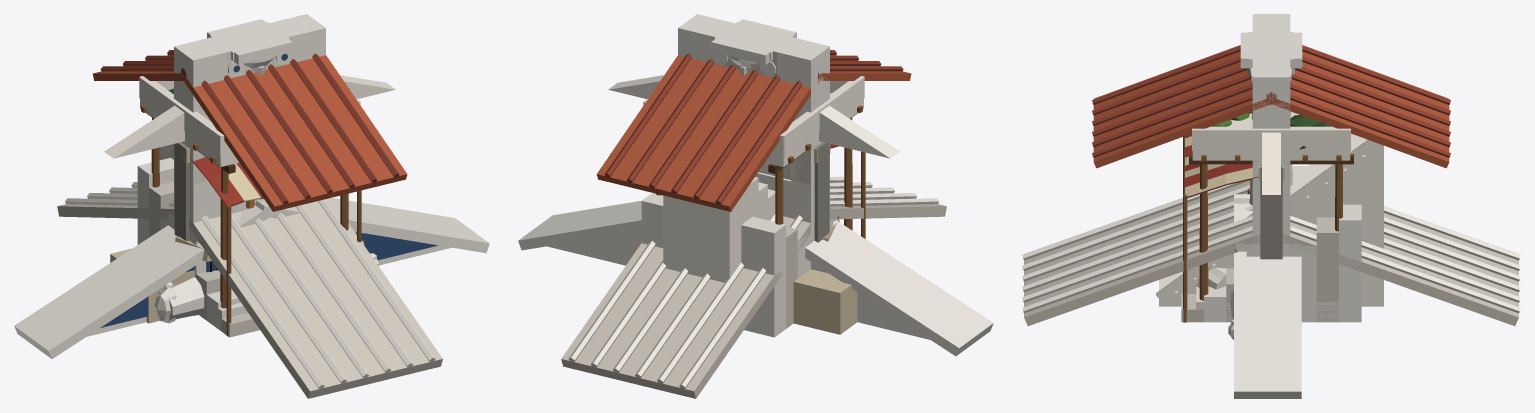
Rendered from Buildings_Kit.glb.
3 renders of one model, left to right at view 1: azimuth 30°, elevation 25°; view 2: azimuth 150°, elevation 25°; view 3: azimuth 270°, elevation 25°, orthographic. The views are drawn at different scales.
Parts seen in each view (by area): view 1: Temple_Roof, Roof_Gable, Pediment, Temple_Door, Roman_Stairs, Roof_Flat, Roof_GableEnd, Awning, Statue_Fallen, Column_Corinthian, Pergola, Gate_Wood (+5 smaller); view 2: Temple_Roof, Roof_Gable, Pediment, Stairs_Outside, Roman_Stairs, Temple_Door, Temple_Wall, Statue_Fallen, Roof_Flat, Roof_GableEnd, Column_Corinthian, Gate_Wood (+4 smaller); view 3: Temple_Roof, Roof_Gable, Pediment, Stairs_Outside, Roman_Stairs, Temple_Door, Roof_Flat, Pergola, Awning, Gate_Wood, Column_Doric, Roof_GableEnd (+4 smaller).
Boxes of the visible parts, box(x1,y1,x2,y2) form: Temple_Roof: box(57, 182, 442, 398); Roof_Gable: box(92, 50, 407, 211); Pediment: box(14, 197, 489, 358); Temple_Door: box(174, 14, 325, 222); Roman_Stairs: box(137, 157, 259, 337); Roof_Flat: box(139, 76, 360, 167); Roof_GableEnd: box(104, 75, 395, 158); Awning: box(190, 157, 361, 336); Statue_Fallen: box(110, 236, 378, 323); Column_Corinthian: box(207, 19, 292, 75); Pergola: box(141, 88, 348, 308); Gate_Wood: box(173, 142, 189, 240); Temple_Roof: box(561, 176, 946, 398); Roof_Gable: box(596, 50, 911, 211); Pediment: box(518, 200, 993, 356); Stairs_Outside: box(663, 177, 775, 282); Roman_Stairs: box(641, 193, 808, 337); Temple_Door: box(678, 14, 829, 236); Temple_Wall: box(678, 29, 810, 222); Statue_Fallen: box(793, 219, 857, 334); Roof_Flat: box(643, 76, 864, 166); Roof_GableEnd: box(608, 75, 899, 158); Column_Corinthian: box(711, 19, 796, 74); Gate_Wood: box(814, 142, 830, 242); Temple_Roof: box(1022, 180, 1520, 326); Roof_Gable: box(1092, 45, 1450, 168); Pediment: box(1234, 194, 1301, 398); Stairs_Outside: box(1156, 133, 1383, 306); Roman_Stairs: box(1181, 204, 1361, 322); Temple_Door: box(1248, 14, 1290, 243); Roof_Flat: box(1192, 111, 1350, 160); Pergola: box(1189, 113, 1353, 300); Awning: box(1183, 133, 1258, 322); Gate_Wood: box(1258, 166, 1284, 259); Column_Doric: box(1241, 33, 1301, 188); Roof_GableEnd: box(1262, 132, 1280, 194).
Bounding box in the file's own units: 6.64 × 3.67 × 6.64.
